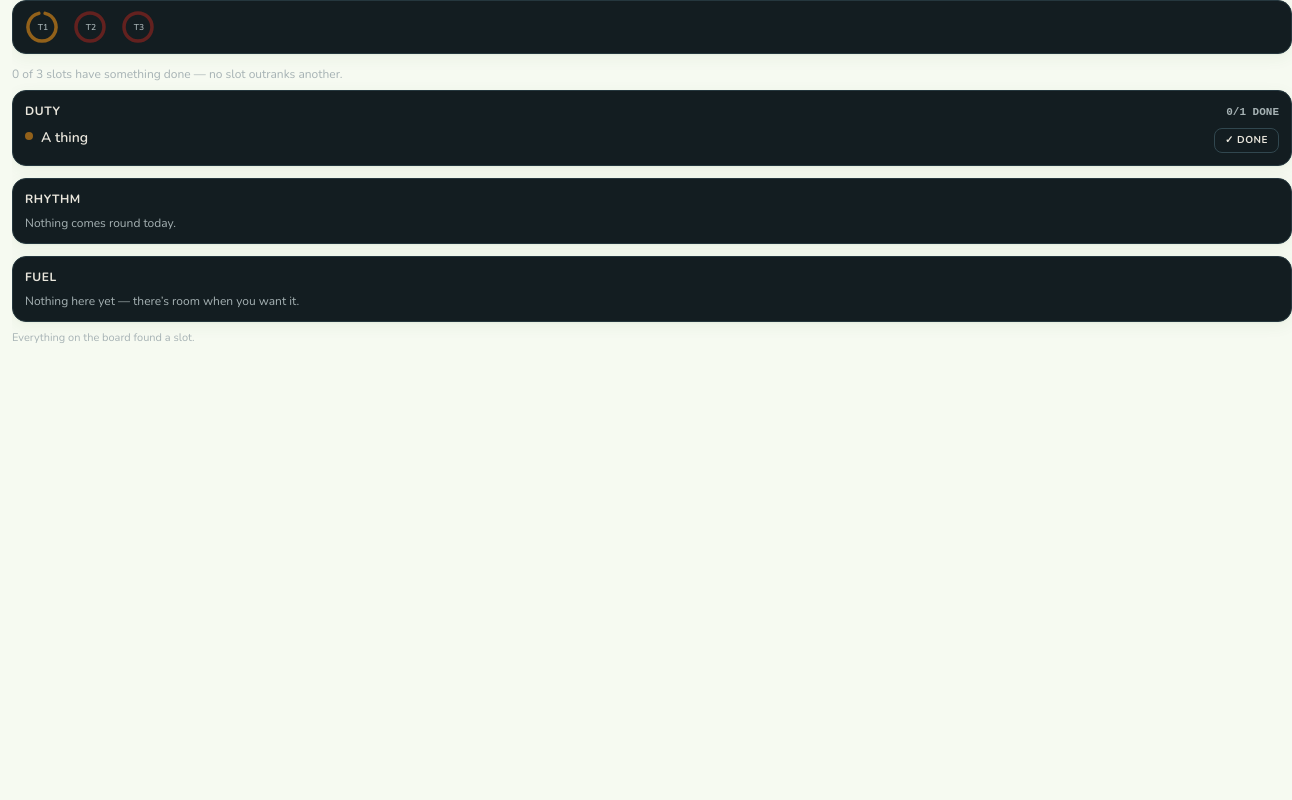
it: SlotBoard — undo-grace holds the write (option (a), board layer) › undo inside the window CANCELS — the act is never sent at all
Click the button with test id "board-complete". click: (1246,140)
box: [1214,128,1279,153]
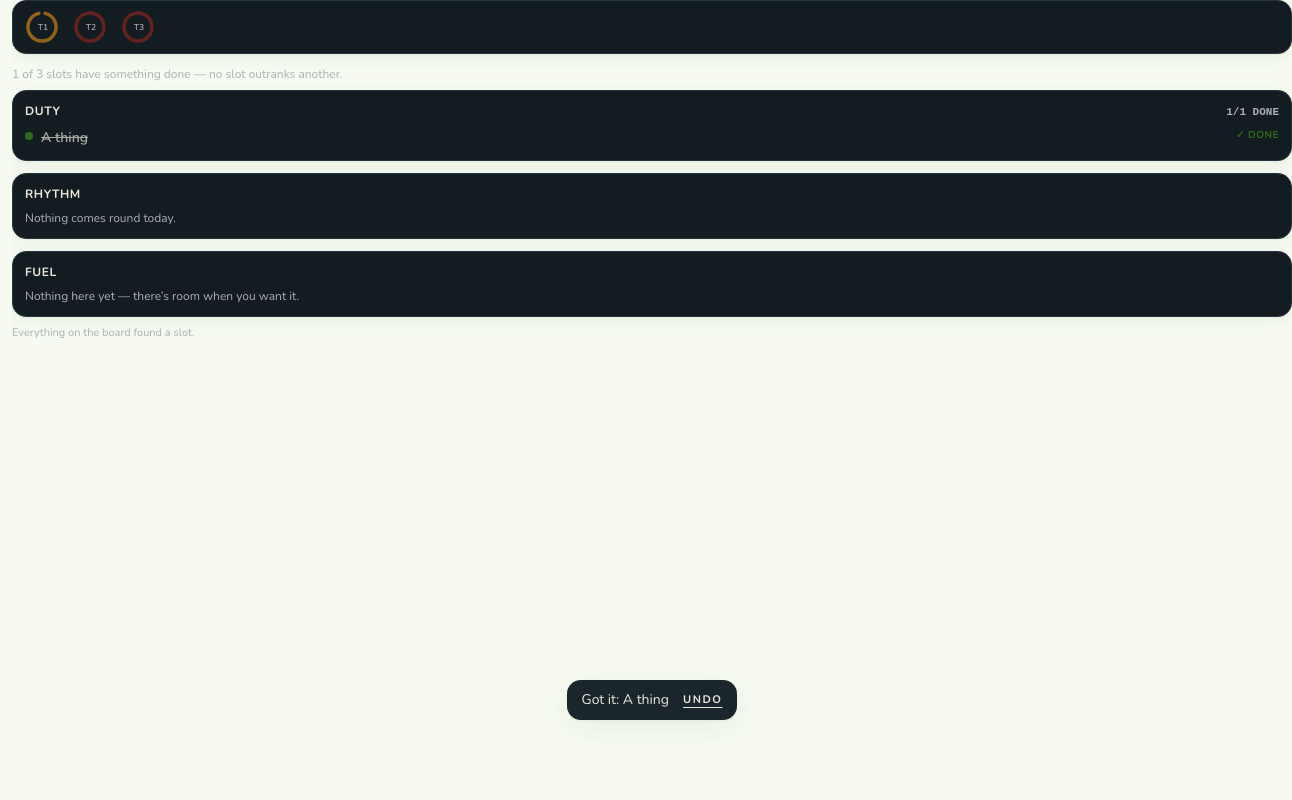
Click the button with test id "board-toast-undo". click: (703,700)
box: [683,690,722,710]
Wait 18000 ms
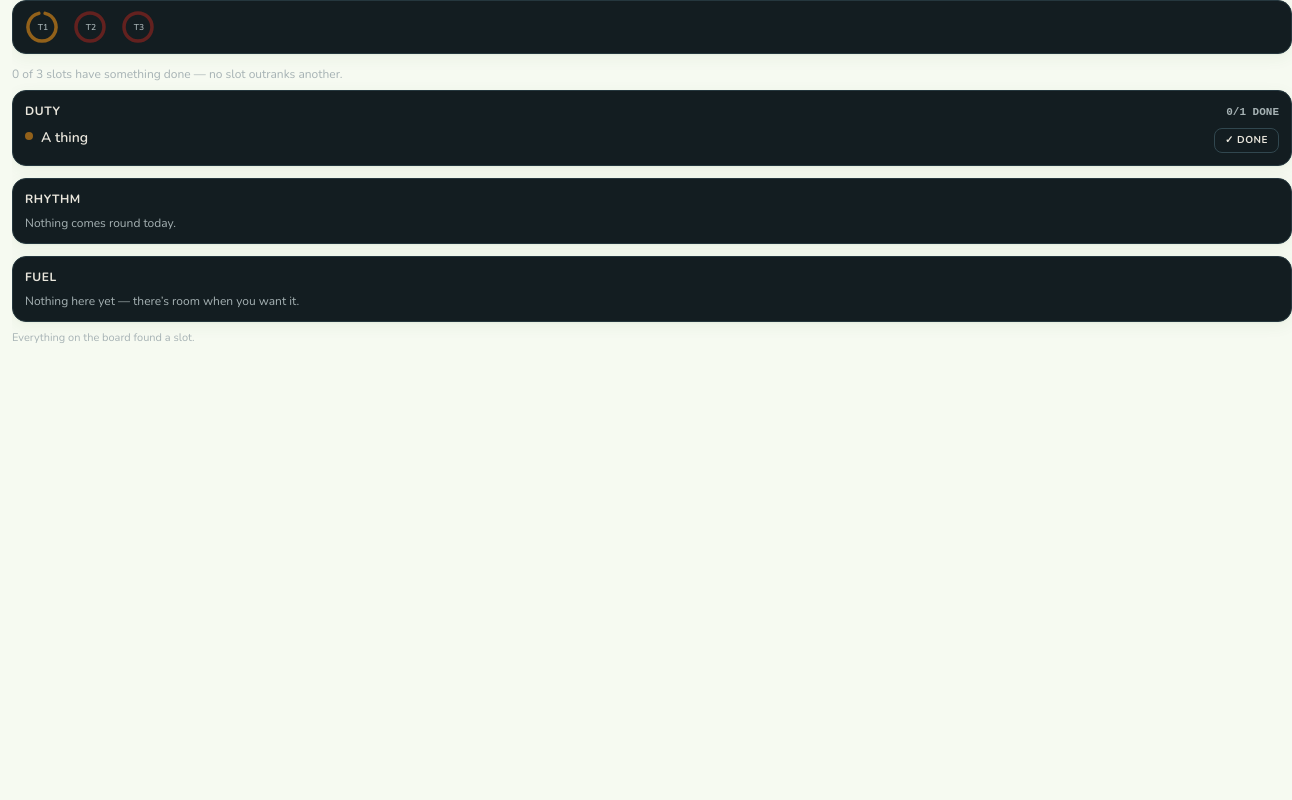
Expected: the message with test id "board-toast" is gone
